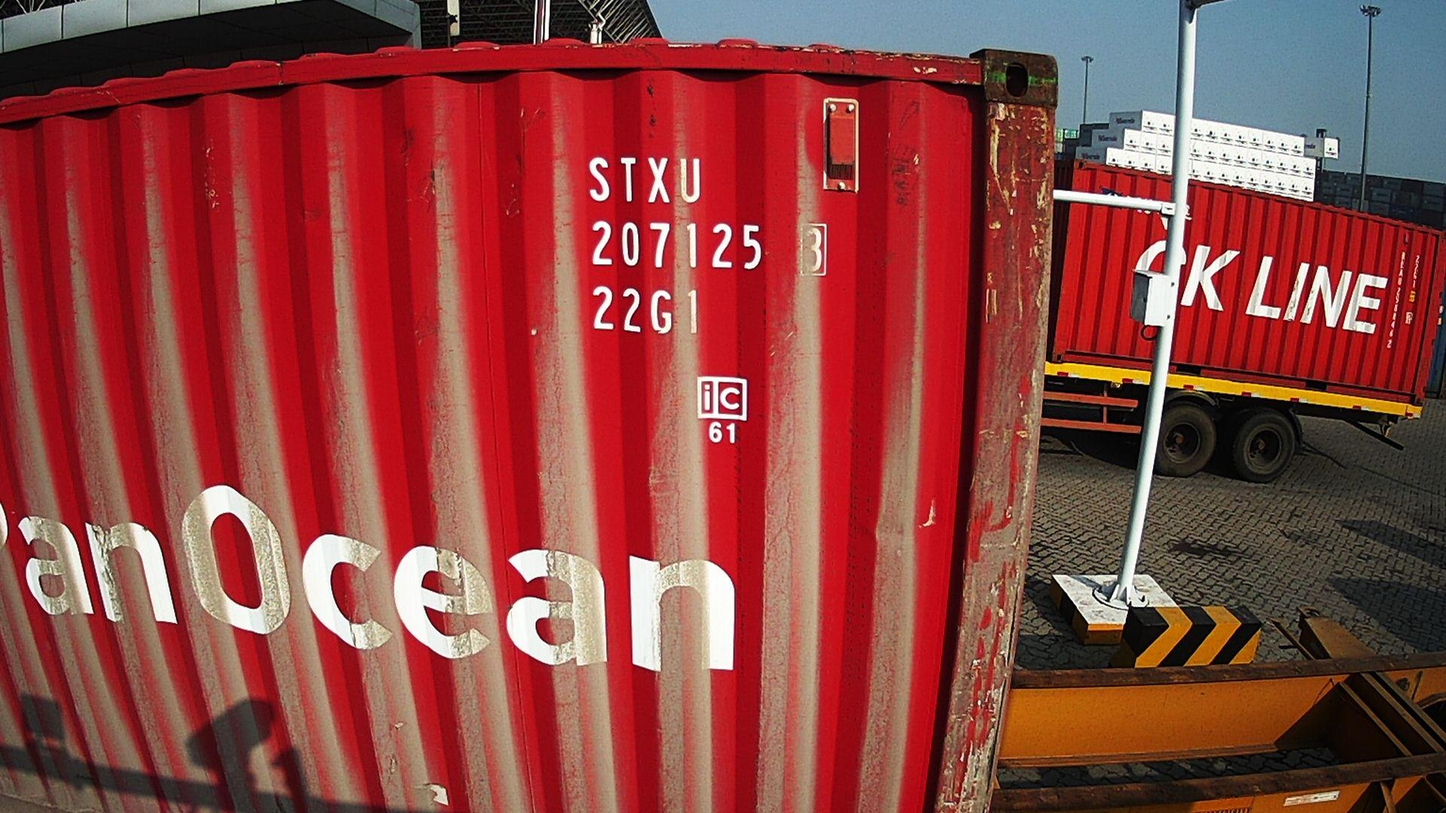container-numbers: (584, 218, 832, 277), (584, 151, 704, 209), (590, 282, 705, 337)
